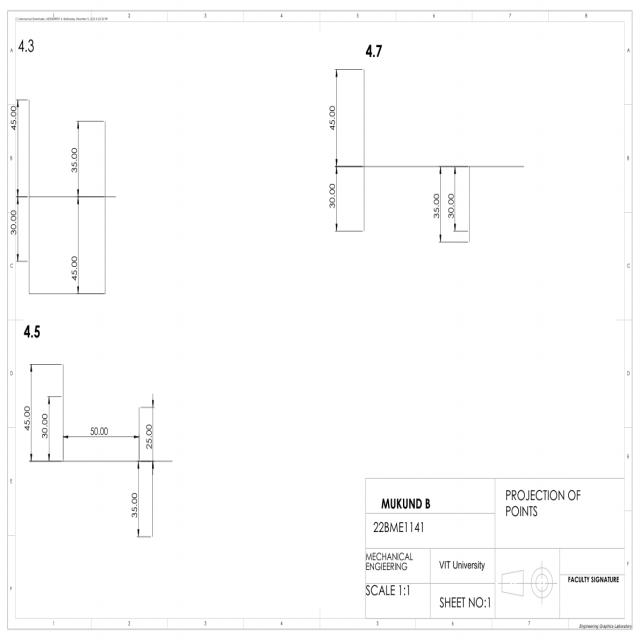Drawings: (323, 63, 480, 251), (22, 357, 159, 543), (6, 92, 120, 303)
